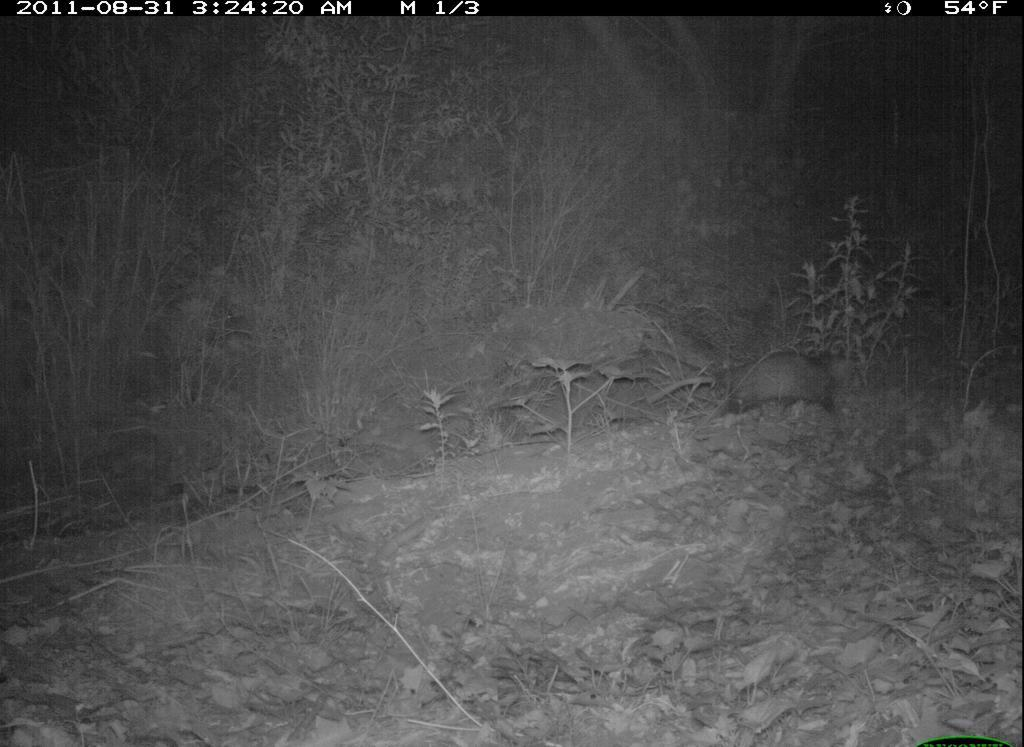opossum: (638, 337, 861, 434)
